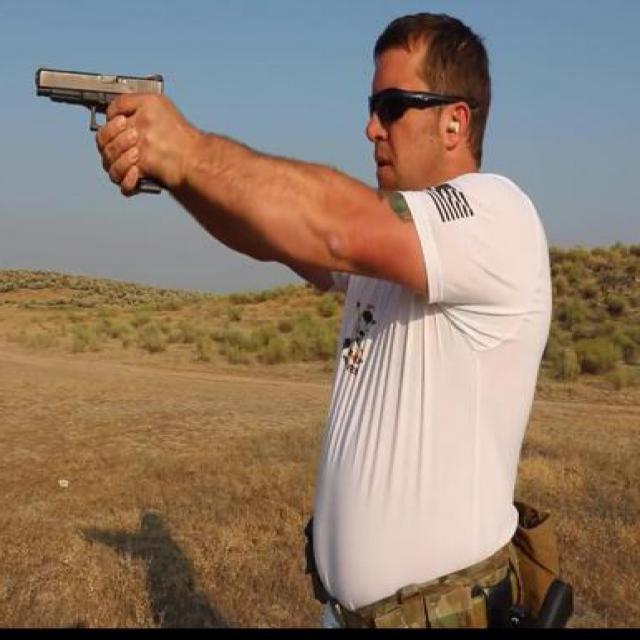weapon: (32, 66, 166, 201)
